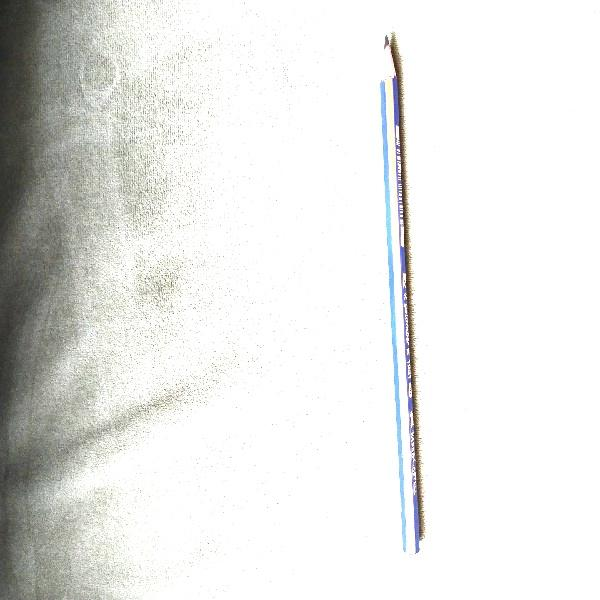pencil: (380, 35, 419, 553)
